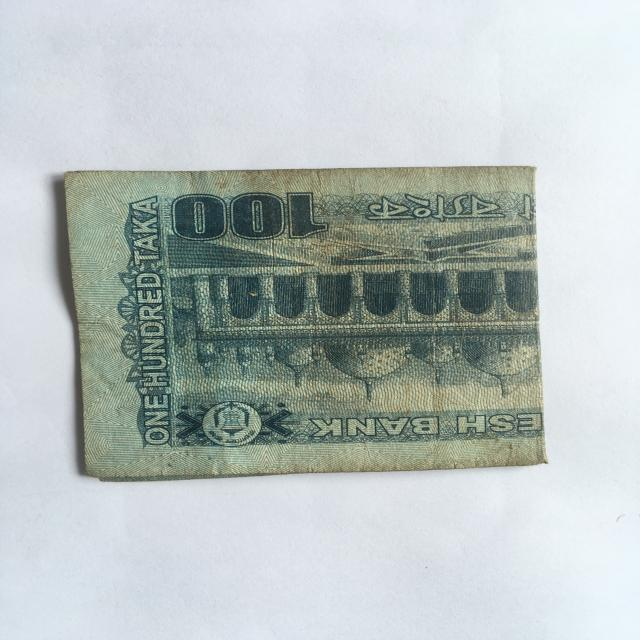Taka: (61, 172, 554, 466)
